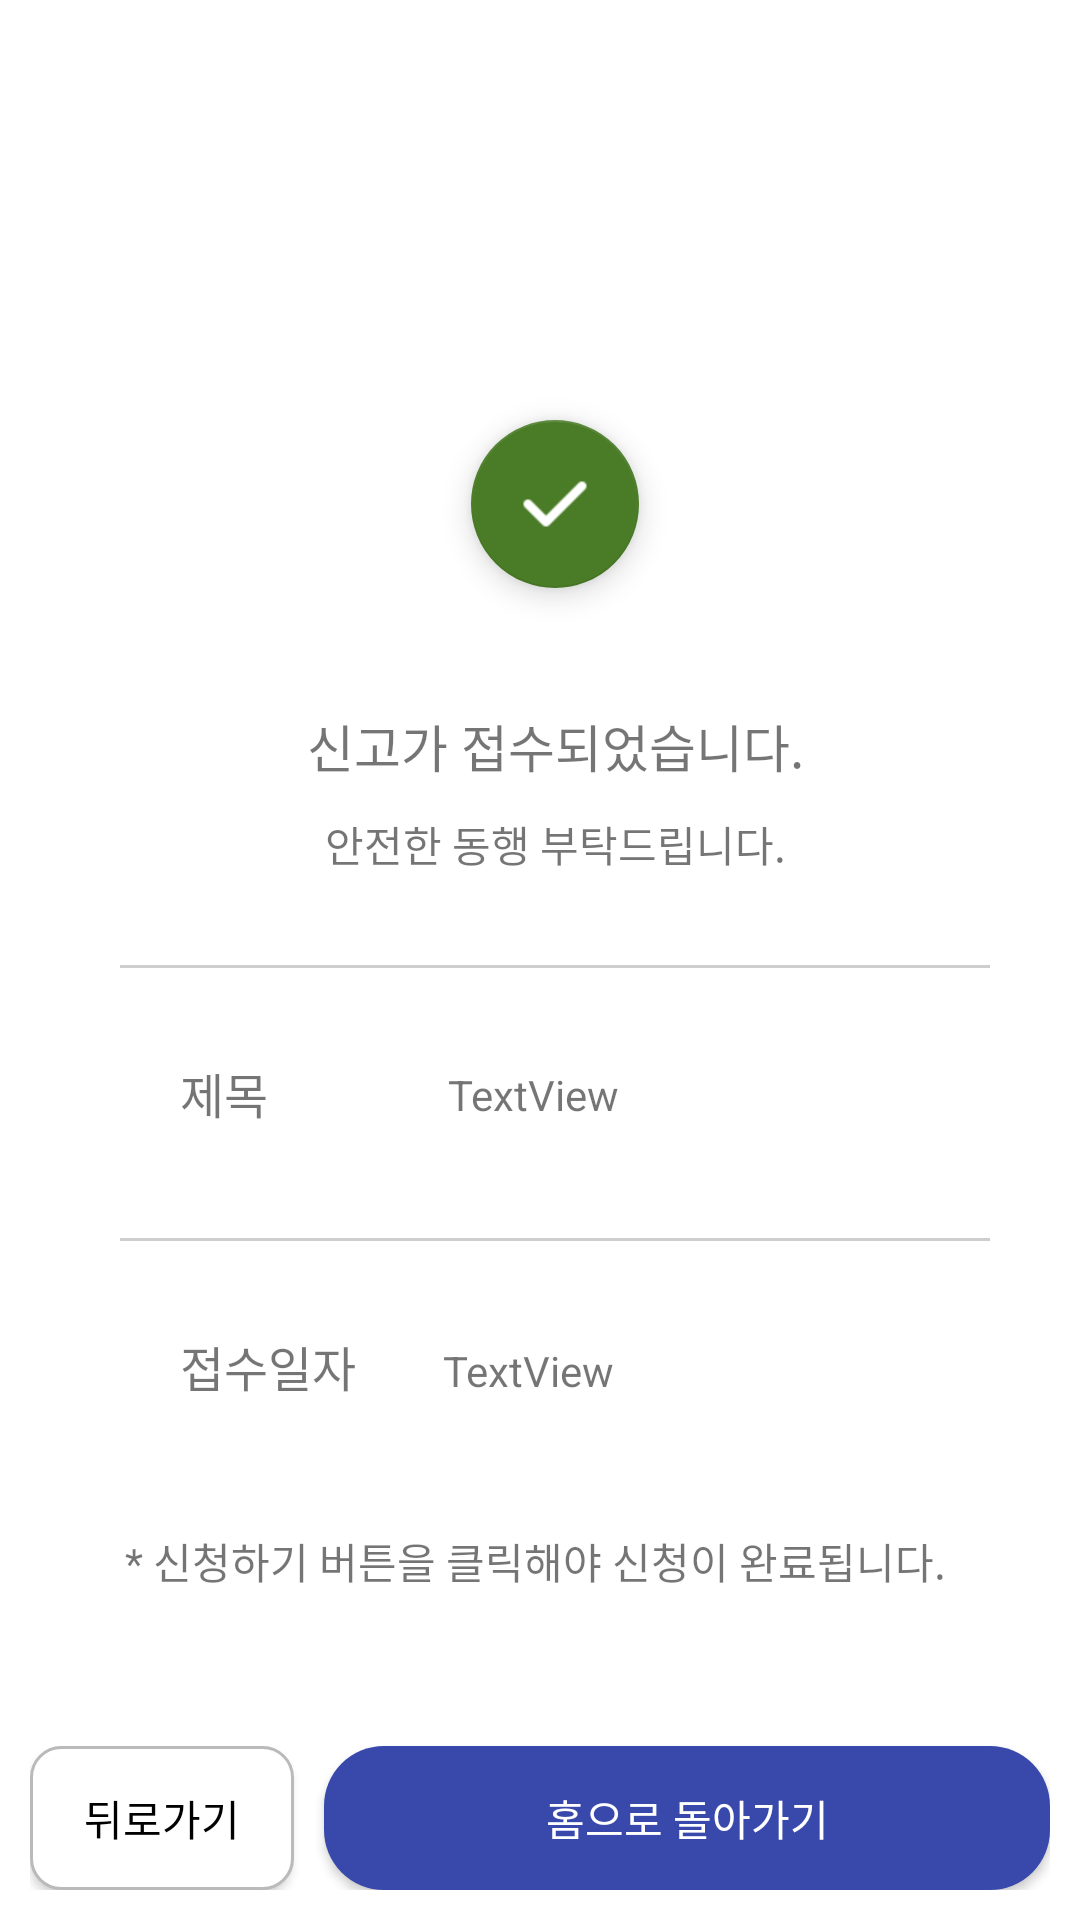

Where to tap for icons on this 1080w x 1920h app screen, as (x=x, y=y):
checkmark: (x=555, y=504)
